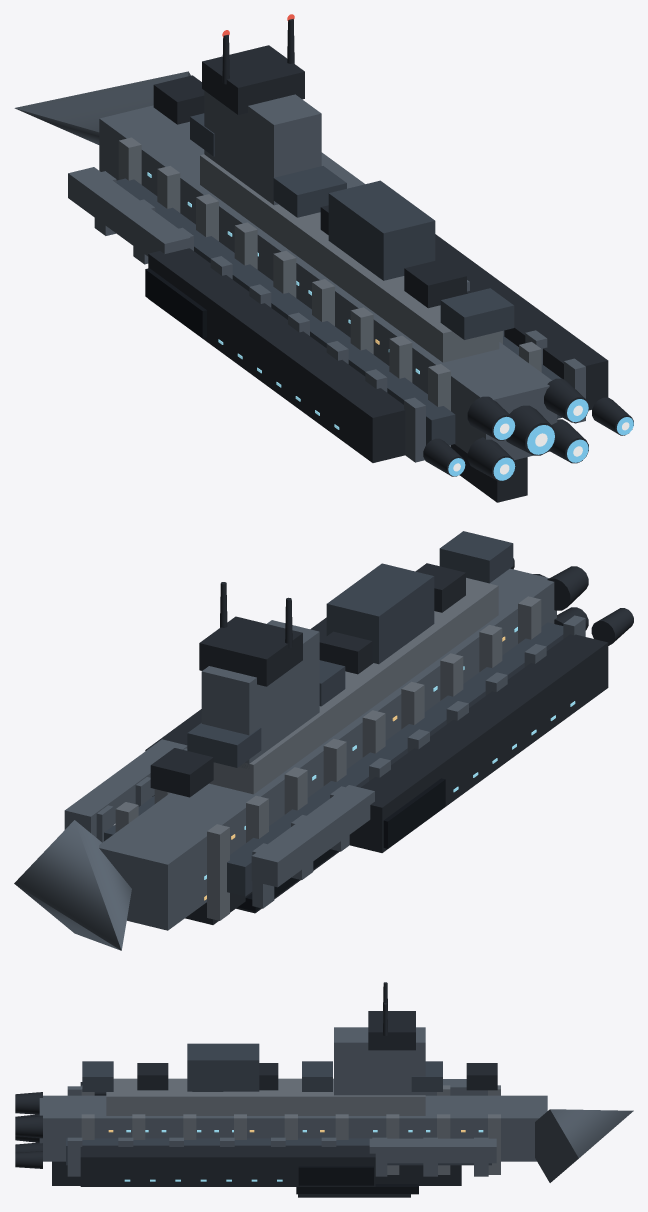
File: capital-dreadnought.glb
The picture shows the model from 3 angles, top to bottom: view 1: azimuth 30°, elevation 25°; view 2: azimuth 150°, elevation 25°; view 3: azimuth 270°, elevation 25°; orthographic projection. The views are drawn at different scales.
Visible parts, largest first — view 1: outer nacelle -1, main armored spine, upper city deck, bridge tower, aft command block, side armored rail -1, outer nacelle 1, forward outrigger -1, bridge command deck, faceted prow, dorsal module 7, dorsal module 3 (+22 smaller); view 2: main armored spine, outer nacelle -1, upper city deck, faceted prow, bridge tower, aft command block, side armored rail -1, forward outrigger -1, bridge command deck, forward outrigger 1, dorsal module 7, dorsal module 0 (+18 smaller); view 3: main armored spine, outer nacelle 1, upper city deck, bridge tower, faceted prow, aft command block, forward outrigger 1, side armored rail 1, bridge command deck, ventral keel, hangar bay 1, hangar shadow (+21 smaller).
Part boxes in pixels (x1,y1,x2,y2): outer nacelle -1: (148, 248, 405, 462); main armored spine: (99, 105, 557, 460); upper city deck: (200, 154, 499, 362); bridge tower: (204, 90, 321, 205); aft command block: (328, 180, 435, 280); side armored rail -1: (116, 178, 455, 445); outer nacelle 1: (435, 234, 608, 410); forward outrigger -1: (68, 167, 190, 256); bridge command deck: (202, 45, 304, 114); faceted prow: (14, 71, 190, 144); dorsal module 7: (440, 288, 514, 339); dorsal module 3: (273, 166, 346, 217); main armored spine: (99, 568, 556, 930); outer nacelle -1: (349, 634, 608, 852); upper city deck: (209, 578, 498, 794); faceted prow: (14, 820, 131, 950); bridge tower: (201, 620, 319, 768); aft command block: (326, 563, 434, 664); side armored rail -1: (227, 622, 563, 896); forward outrigger -1: (251, 785, 374, 887); bridge command deck: (199, 616, 302, 686); forward outrigger 1: (64, 739, 187, 837); dorsal module 7: (439, 531, 513, 583); dorsal module 0: (150, 748, 213, 797); main armored spine: (39, 1095, 547, 1161); outer nacelle 1: (80, 1145, 375, 1186); upper city deck: (106, 1078, 425, 1115); bridge tower: (334, 1027, 425, 1095); faceted prow: (535, 1109, 633, 1182); aft command block: (187, 1043, 259, 1091); forward outrigger 1: (369, 1138, 496, 1163); side armored rail 1: (66, 1138, 491, 1165); bridge command deck: (368, 1011, 415, 1050); ventral keel: (52, 1161, 461, 1185); hangar bay 1: (298, 1166, 373, 1185); hangar shadow: (296, 1184, 418, 1194).
Bounding box in the file's own units: 226 × 273 × 757.
